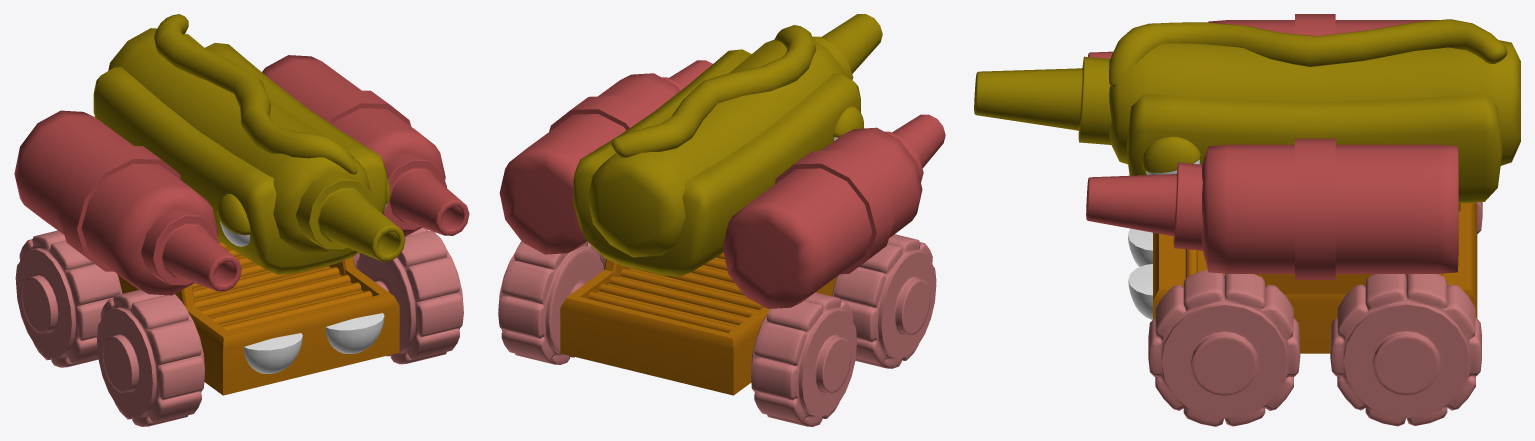
The model's file is Final Upgrade Hotdog.fbx.
3 views of the same model, side by side, from view 1: azimuth 30°, elevation 25°; view 2: azimuth 150°, elevation 25°; view 3: azimuth 270°, elevation 25° (orthographic). The views are drawn at different scales.
Parts seen in each view (by area): view 1: polySurface38, polySurface9, polySurface34, GRILL_PIECE_UVED8, polySurface37; view 2: polySurface38, polySurface9, polySurface34, GRILL_PIECE_UVED8; view 3: polySurface38, polySurface9, polySurface34, GRILL_PIECE_UVED8, polySurface37.
Part boxes in pixels (x1=…): polySurface38: x1=93, y1=14, x2=405, y2=274; polySurface9: x1=14, y1=55, x2=469, y2=295; polySurface34: x1=15, y1=227, x2=463, y2=426; GRILL_PIECE_UVED8: x1=117, y1=241, x2=399, y2=395; polySurface37: x1=244, y1=313, x2=384, y2=373; polySurface38: x1=573, y1=14, x2=882, y2=276; polySurface9: x1=499, y1=60, x2=945, y2=308; polySurface34: x1=498, y1=234, x2=936, y2=426; GRILL_PIECE_UVED8: x1=560, y1=252, x2=836, y2=395; polySurface38: x1=974, y1=19, x2=1520, y2=203; polySurface9: x1=1086, y1=14, x2=1458, y2=279; polySurface34: x1=1148, y1=202, x2=1482, y2=426; GRILL_PIECE_UVED8: x1=1153, y1=202, x2=1477, y2=353; polySurface37: x1=1128, y1=228, x2=1152, y2=319.
Bounding box in the file's own units: 21.58 × 17.23 × 26.72.
